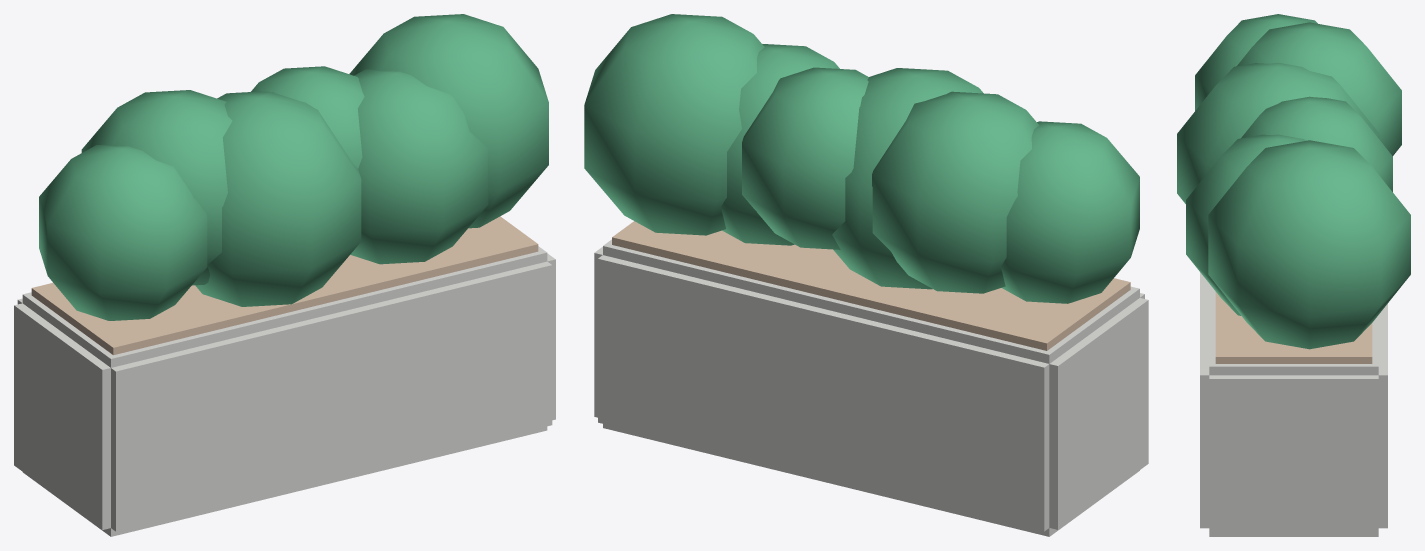
File: planter_box.glb
The picture shows the model from 3 angles, left to right: view 1: azimuth 30°, elevation 25°; view 2: azimuth 150°, elevation 25°; view 3: azimuth 270°, elevation 25°; orthographic projection. The views are drawn at different scales.
Visible parts, largest first — view 1: planter_box; view 2: planter_box; view 3: planter_box.
Part boxes in pixels (left/top/right/bottom): planter_box: left=14, top=14, right=555, bottom=536; planter_box: left=584, top=14, right=1148, bottom=536; planter_box: left=1177, top=14, right=1410, bottom=536.
Size of the model in its own units: 1.79 by 1.29 by 0.7467.
